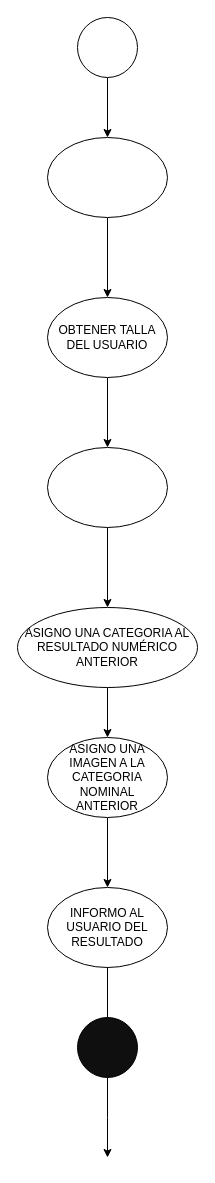
The diagram is 215 pixels wide and 1183 high, and some of its shapes have lost their labels. The shapes that lost their labels are listed below. From the top down, each one's centre as x and y in pixels, then its label:
At (x=107, y=177): "OBTENER PESO DEL USUARIO".
At (x=107, y=487): "CALCULO EL IMC DEL USUARIO".
